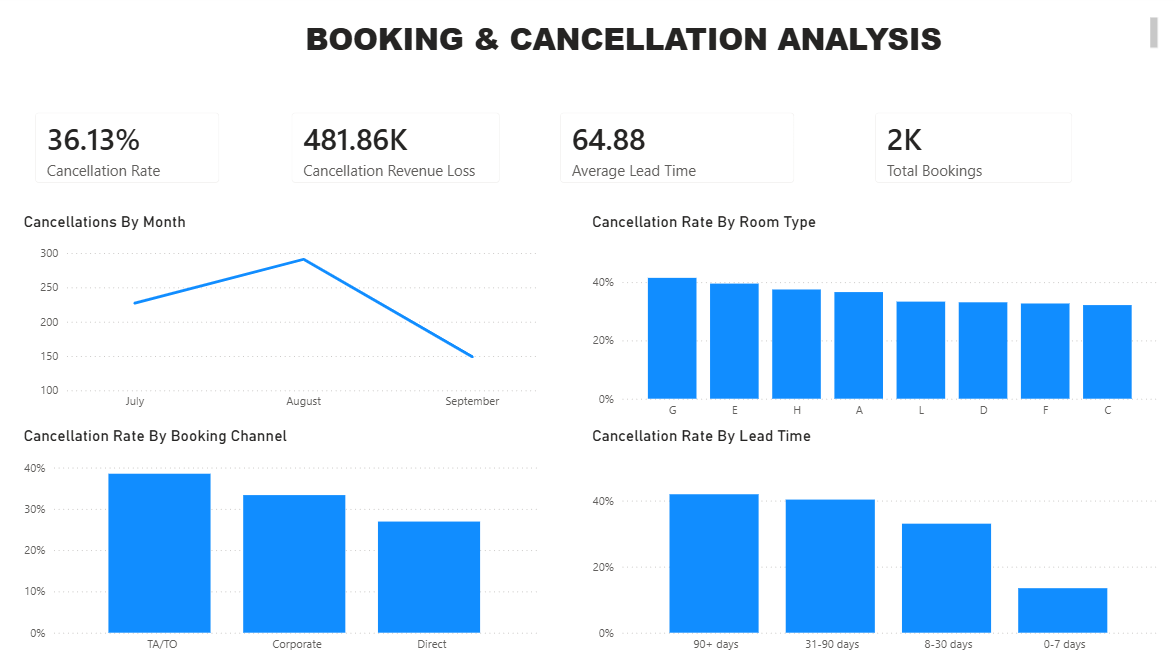

Layout of this report page (visuals, bound fields, positions):
{"tool":"powerbi","page":{"name":"Page 3","canvas":[1280,720],"ordinal":2},"visuals":[{"type":"textbox","box":[9.7,21,1250,76.1],"z":0},{"type":"cardVisual","fields":{"Data":["hotelanalytics hotel_bookings_clean.Total Bookings"]},"box":[932.7,111.7,247.7,110.1],"z":1000},{"type":"textbox","box":[9.7,21,1250,64.8],"z":2000},{"type":"cardVisual","fields":{"Data":["hotelanalytics hotel_bookings_clean.Cancellation Rate"]},"box":[25.9,111.7,233.2,110.1],"z":3000},{"type":"cardVisual","fields":{"Data":["RoomInventory.Cancellation Revenue Loss"]},"box":[302.8,111.7,259.1,110.1],"z":4000},{"type":"cardVisual","fields":{"Data":["hotelanalytics hotel_bookings_clean.Average Lead Time"]},"box":[592.6,111.7,287.2,110.4],"z":5000},{"type":"lineChart","title":"Cancellations By Month","fields":{"Category":["hotelanalytics hotel_bookings_clean.arrival_date_month"],"Y":["hotelanalytics hotel_bookings_clean.Cancelled Bookings"]},"box":[25.9,236.4,566.7,231.5],"z":6000},{"type":"clusteredColumnChart","title":" Cancellation Rate By Room Type","fields":{"Category":["hotelanalytics hotel_bookings_clean.reserved_room_type"],"Y":["hotelanalytics hotel_bookings_clean.Cancellation Rate"]},"box":[639.6,236.4,620.2,231.5],"z":7000},{"type":"clusteredColumnChart","title":" Cancellation Rate By  Booking Channel","fields":{"Y":["hotelanalytics hotel_bookings_clean.Cancellation Rate"],"Category":["hotelanalytics hotel_bookings_clean.distribution_channel"]},"box":[25.9,468,566.7,252.6],"z":8000},{"type":"clusteredColumnChart","title":" Cancellation Rate By  Lead Time ","fields":{"Y":["hotelanalytics hotel_bookings_clean.Cancellation Rate"],"Category":["hotelanalytics hotel_bookings_clean.lead_time_bucket"]},"box":[639.6,468,620.2,252.6],"z":9000}]}

Visuals, with their boxes in screenshot pixels (x1, y1, x2, y2), scaled from the page's 1280x720 canvas onto the 1175x659 screenshot:
textbox: [9,19,1156,89]
cardVisual - hotelanalytics hotel_bookings_clean.Total Bookings: [856,102,1084,203]
textbox: [9,19,1156,79]
cardVisual - hotelanalytics hotel_bookings_clean.Cancellation Rate: [24,102,238,203]
cardVisual - RoomInventory.Cancellation Revenue Loss: [278,102,516,203]
cardVisual - hotelanalytics hotel_bookings_clean.Average Lead Time: [544,102,808,203]
"Cancellations By Month" lineChart: [24,216,544,428]
" Cancellation Rate By Room Type" clusteredColumnChart: [587,216,1156,428]
" Cancellation Rate By  Booking Channel" clusteredColumnChart: [24,428,544,658]
" Cancellation Rate By  Lead Time " clusteredColumnChart: [587,428,1156,658]
